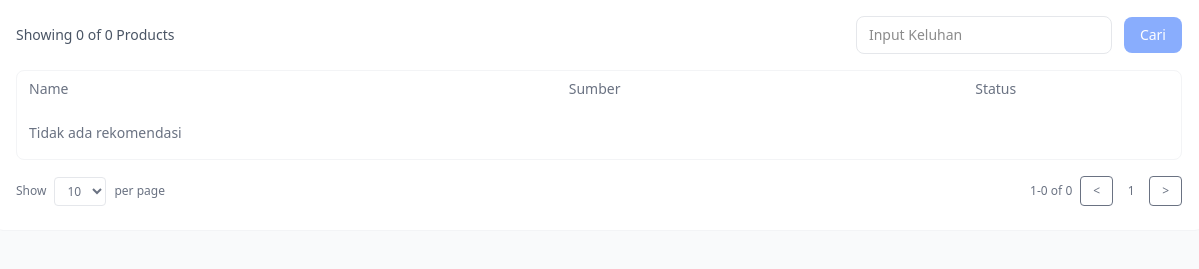
Test: substitutions module › handles search successfully
The width and height of the screenshot is (1199, 269).
Type "demam" into the field with placeholder "Input Keluhan". click: (984, 35)
box: left=856, top=16, right=1112, bottom=54
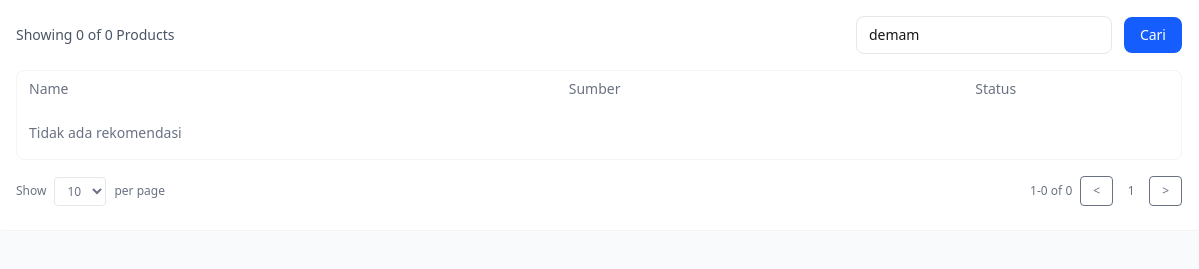
Click the button "Cari". click: (1153, 35)
box: left=1124, top=17, right=1182, bottom=53
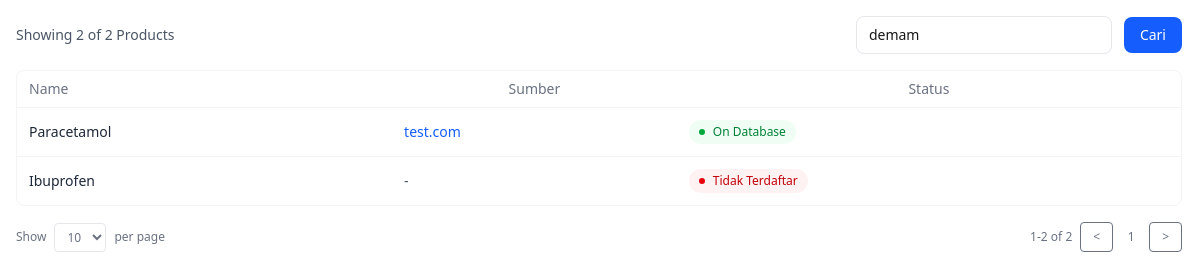
Now the text "Paracetamol" is shown, box left=17, top=108, right=392, bottom=156
Now the text "Ibuprofen" is shown, box left=17, top=156, right=392, bottom=205
